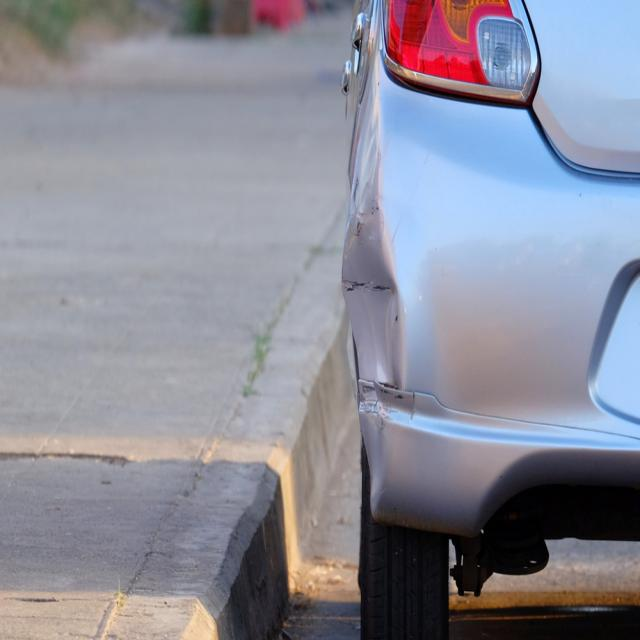dent: (340, 180, 405, 390)
